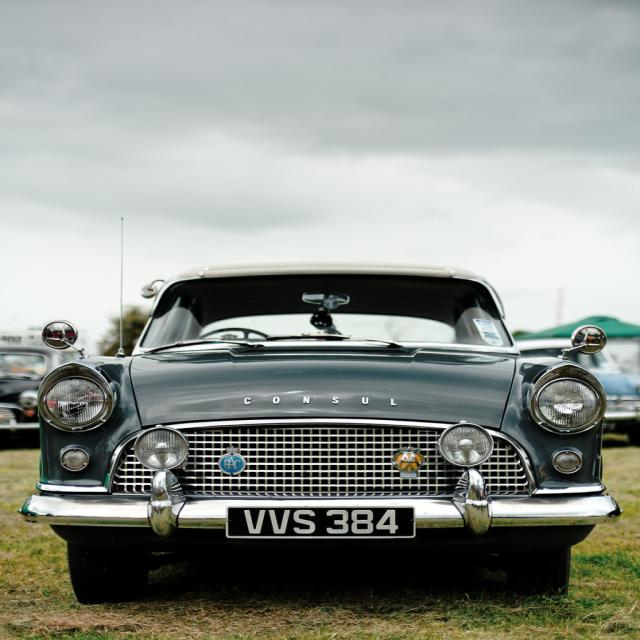car: (19, 214, 628, 592)
